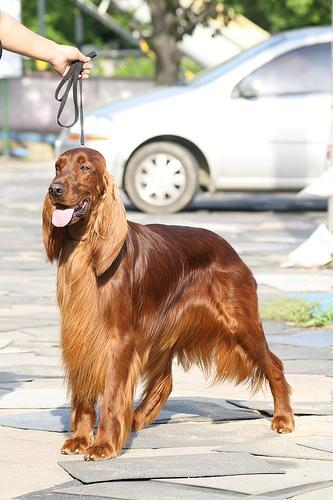Irish_setter: (42, 147, 295, 460)
